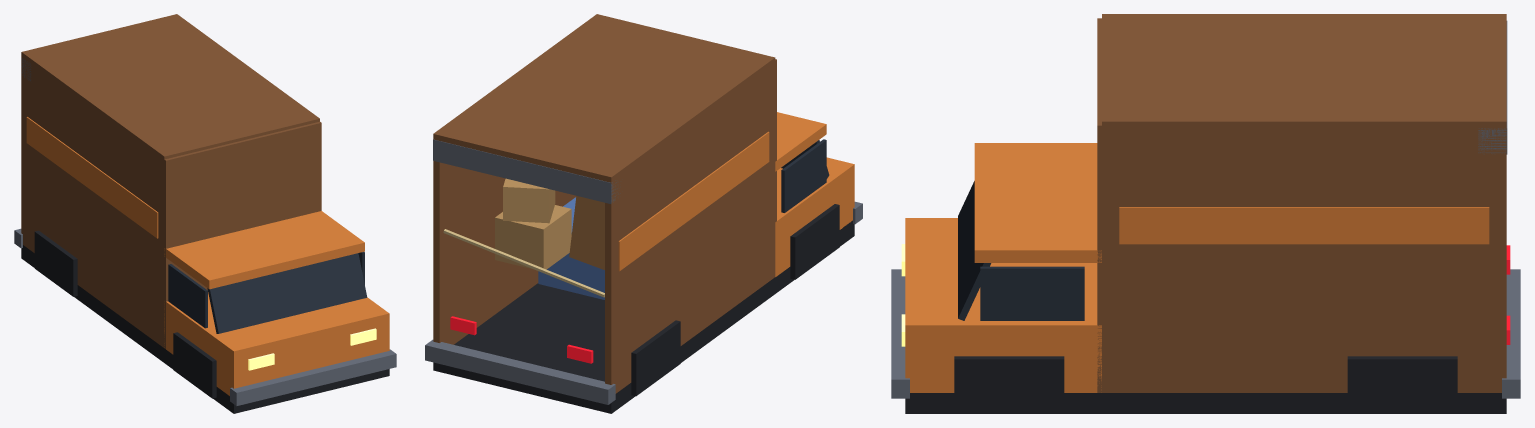
Rendered from moving_truck.glb.
3 views of the same model, side by side, from view 1: azimuth 30°, elevation 25°; view 2: azimuth 150°, elevation 25°; view 3: azimuth 270°, elevation 25° (orthographic). The views are drawn at different scales.
Parts seen in each view (by area): view 1: box_moving_brown, body_moving_orange, body_truck_glass, body_car_black, box_moving_orange, body_car_grey, lights_lamp; view 2: box_moving_brown, body_car_black, box_car_grey, body_moving_orange, load_cardboard, box_moving_orange, body_truck_glass, load_moving_wood, load_moving_sofa, load_rope, lights_tail; view 3: box_moving_brown, body_moving_orange, body_car_black, box_moving_orange, body_truck_glass, box_car_grey, body_car_grey.
Boxes of the visible parts, x1,y1,x2,y2 form: box_moving_brown: (21, 14, 321, 348); body_moving_orange: (164, 211, 389, 395); body_truck_glass: (168, 252, 367, 333); body_car_black: (21, 230, 389, 413); box_moving_orange: (26, 117, 158, 238); body_car_grey: (230, 349, 396, 405); lights_lamp: (248, 328, 376, 370); box_moving_brown: (433, 14, 776, 393); body_car_black: (433, 204, 854, 413); box_car_grey: (425, 139, 620, 404); body_moving_orange: (775, 112, 854, 276); load_cardboard: (495, 178, 571, 269); box_moving_orange: (618, 131, 769, 271); body_truck_glass: (781, 139, 829, 212); load_moving_wood: (569, 196, 604, 269); load_moving_sofa: (538, 197, 604, 299); load_rope: (443, 229, 604, 297); lights_tail: (450, 316, 593, 363); box_moving_brown: (1097, 14, 1506, 392); body_moving_orange: (905, 143, 1101, 392); body_car_black: (905, 356, 1506, 413); box_moving_orange: (1119, 207, 1489, 244); body_truck_glass: (958, 181, 1084, 320); box_car_grey: (1478, 21, 1520, 398); body_car_grey: (891, 269, 909, 398).
Size of the model in its own units: 2.32 by 2.79 by 5.44.
